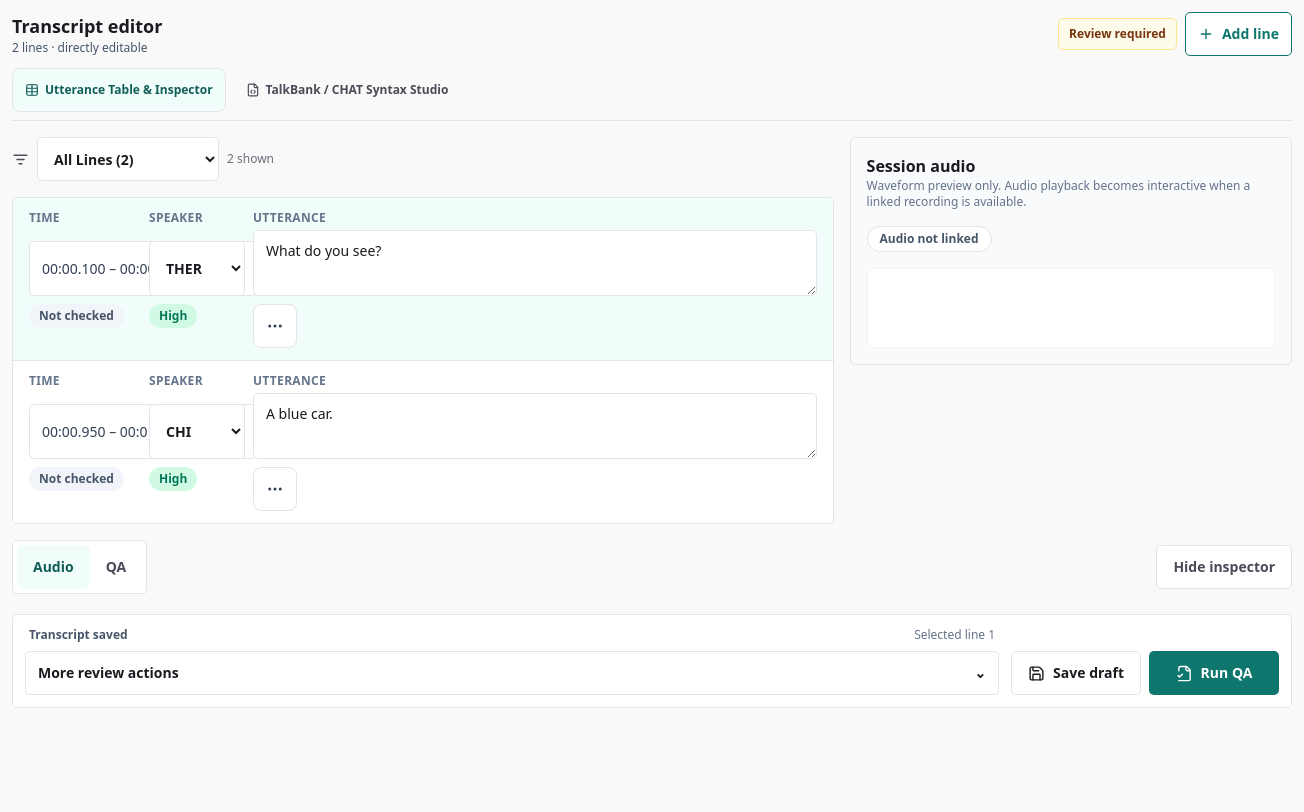
Test case: TranscriptEditorPanel › lets tablet and desktop users switch or collapse the Audio and QA inspector
This screenshot has width=1304, height=812.
Click the button "QA" at (116, 567), box x1=90 y1=545 x2=142 y2=589
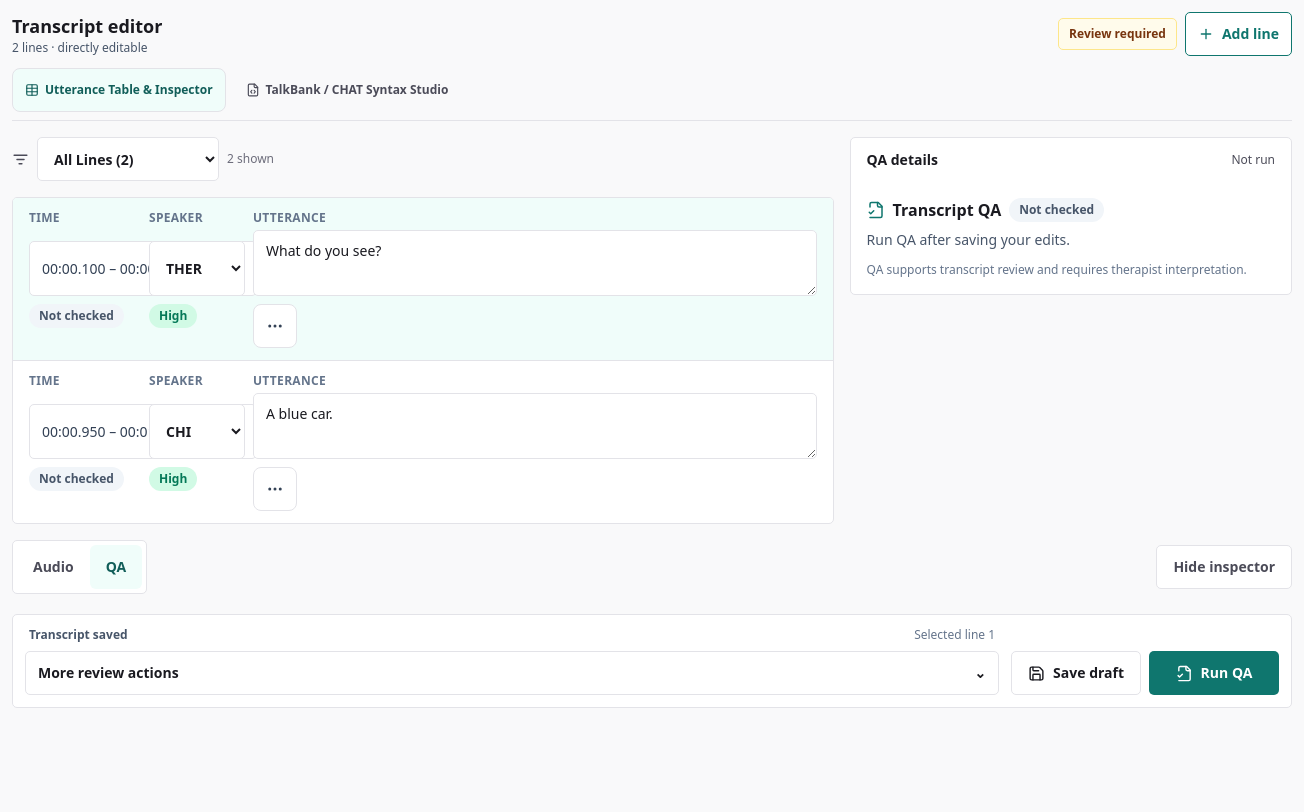
Check: the button "QA" is pressed, box x1=90 y1=545 x2=142 y2=589
Click the button "Hide inspector" at (1224, 567), box x1=1156 y1=545 x2=1292 y2=589
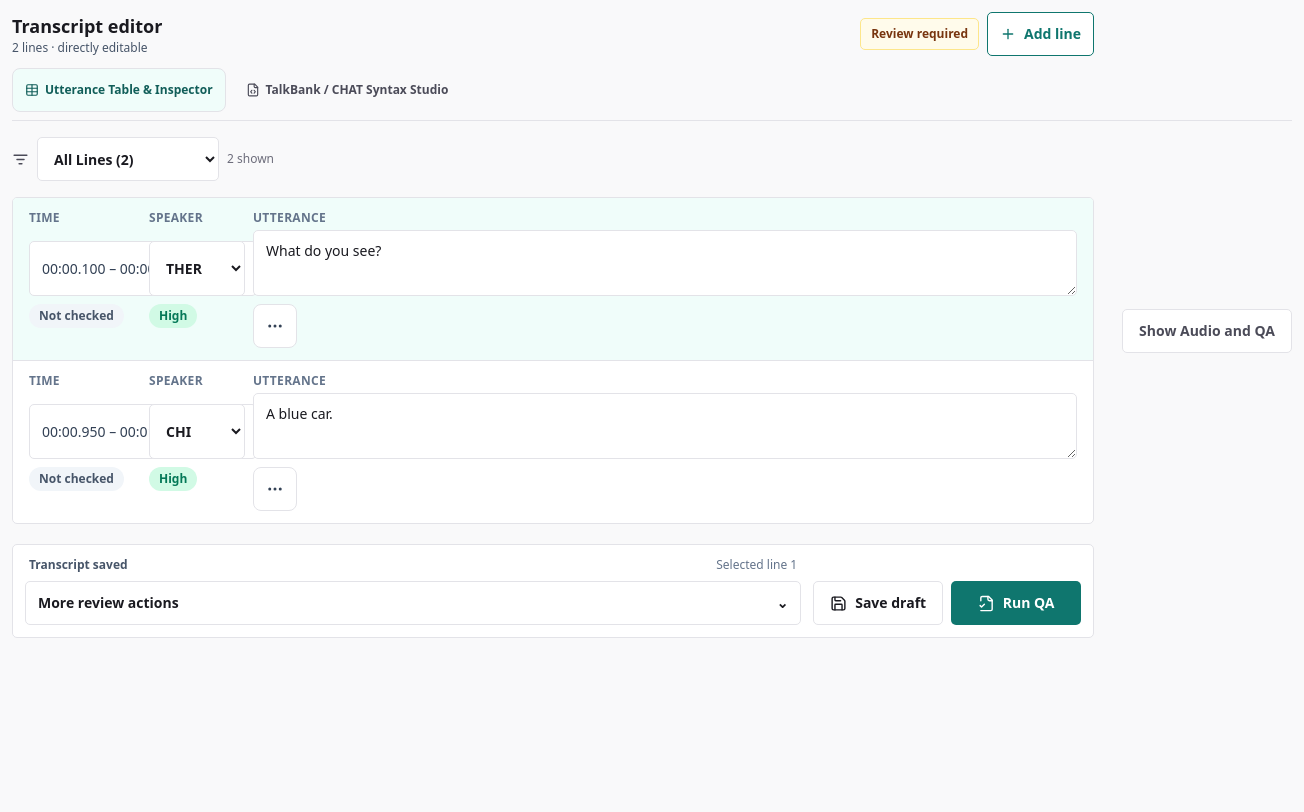
Click the button "Show Audio and QA" at (1207, 330), box x1=1122 y1=308 x2=1292 y2=352
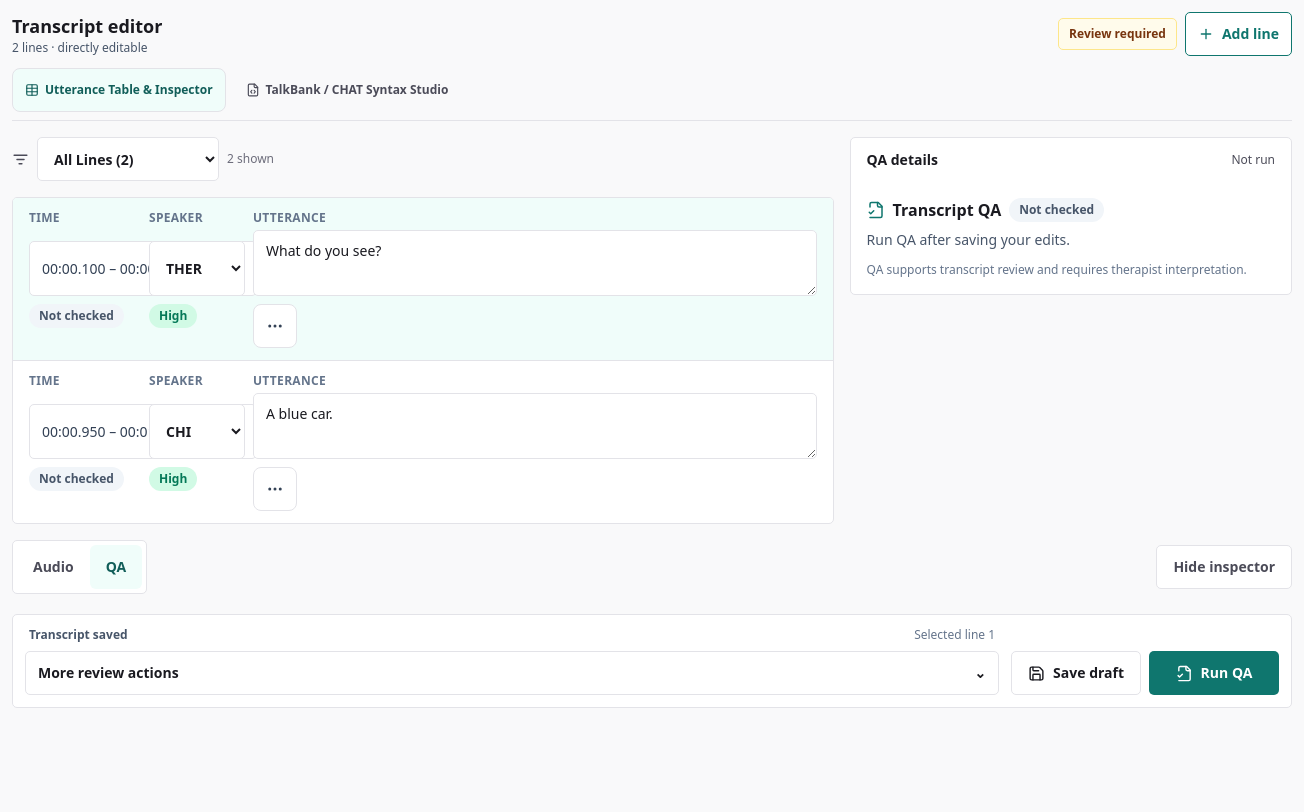
Check: the button "Hide inspector" is shown, box x1=1156 y1=545 x2=1292 y2=589
